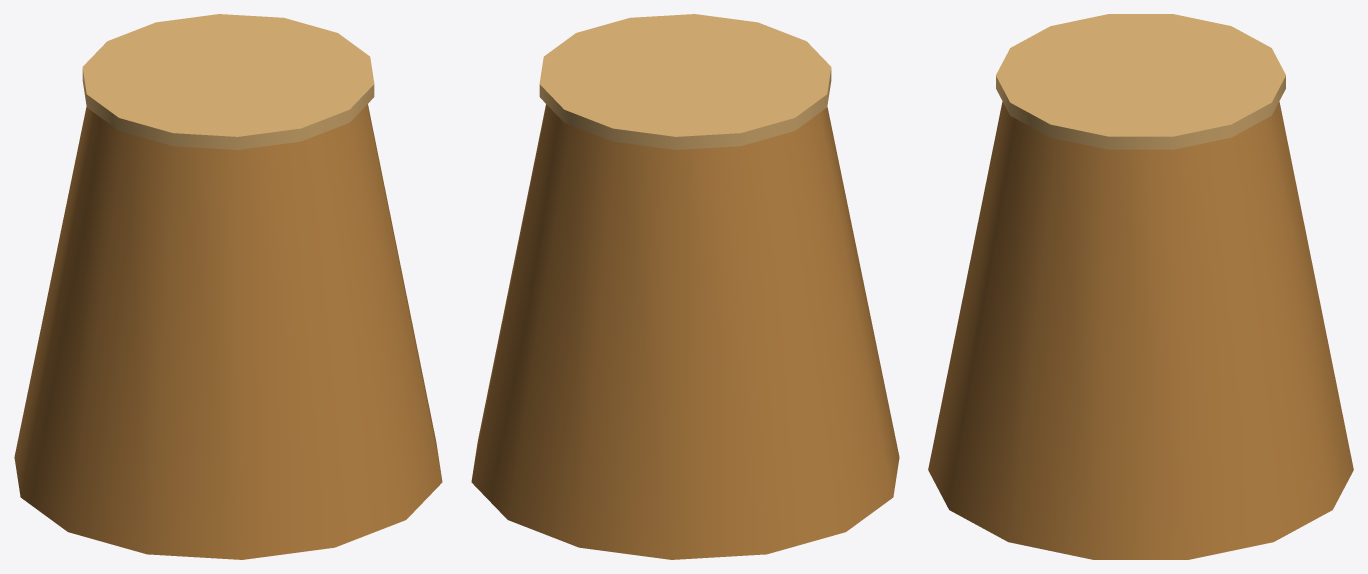
Rendered from tree_cooldown.fbx.
3 views of the same model, side by side, from view 1: azimuth 30°, elevation 25°; view 2: azimuth 150°, elevation 25°; view 3: azimuth 270°, elevation 25° (orthographic).
Parts seen in each view (by area): view 1: tree_cooldown; view 2: tree_cooldown; view 3: tree_cooldown.
Boxes of the visible parts, <box> form: tree_cooldown: <box>14,14,442,559</box>; tree_cooldown: <box>471,14,899,559</box>; tree_cooldown: <box>928,14,1353,559</box>.
Bounding box in the file's own units: 0.44 × 0.45 × 0.44.
Materials: 1 (1 with a texture image).
